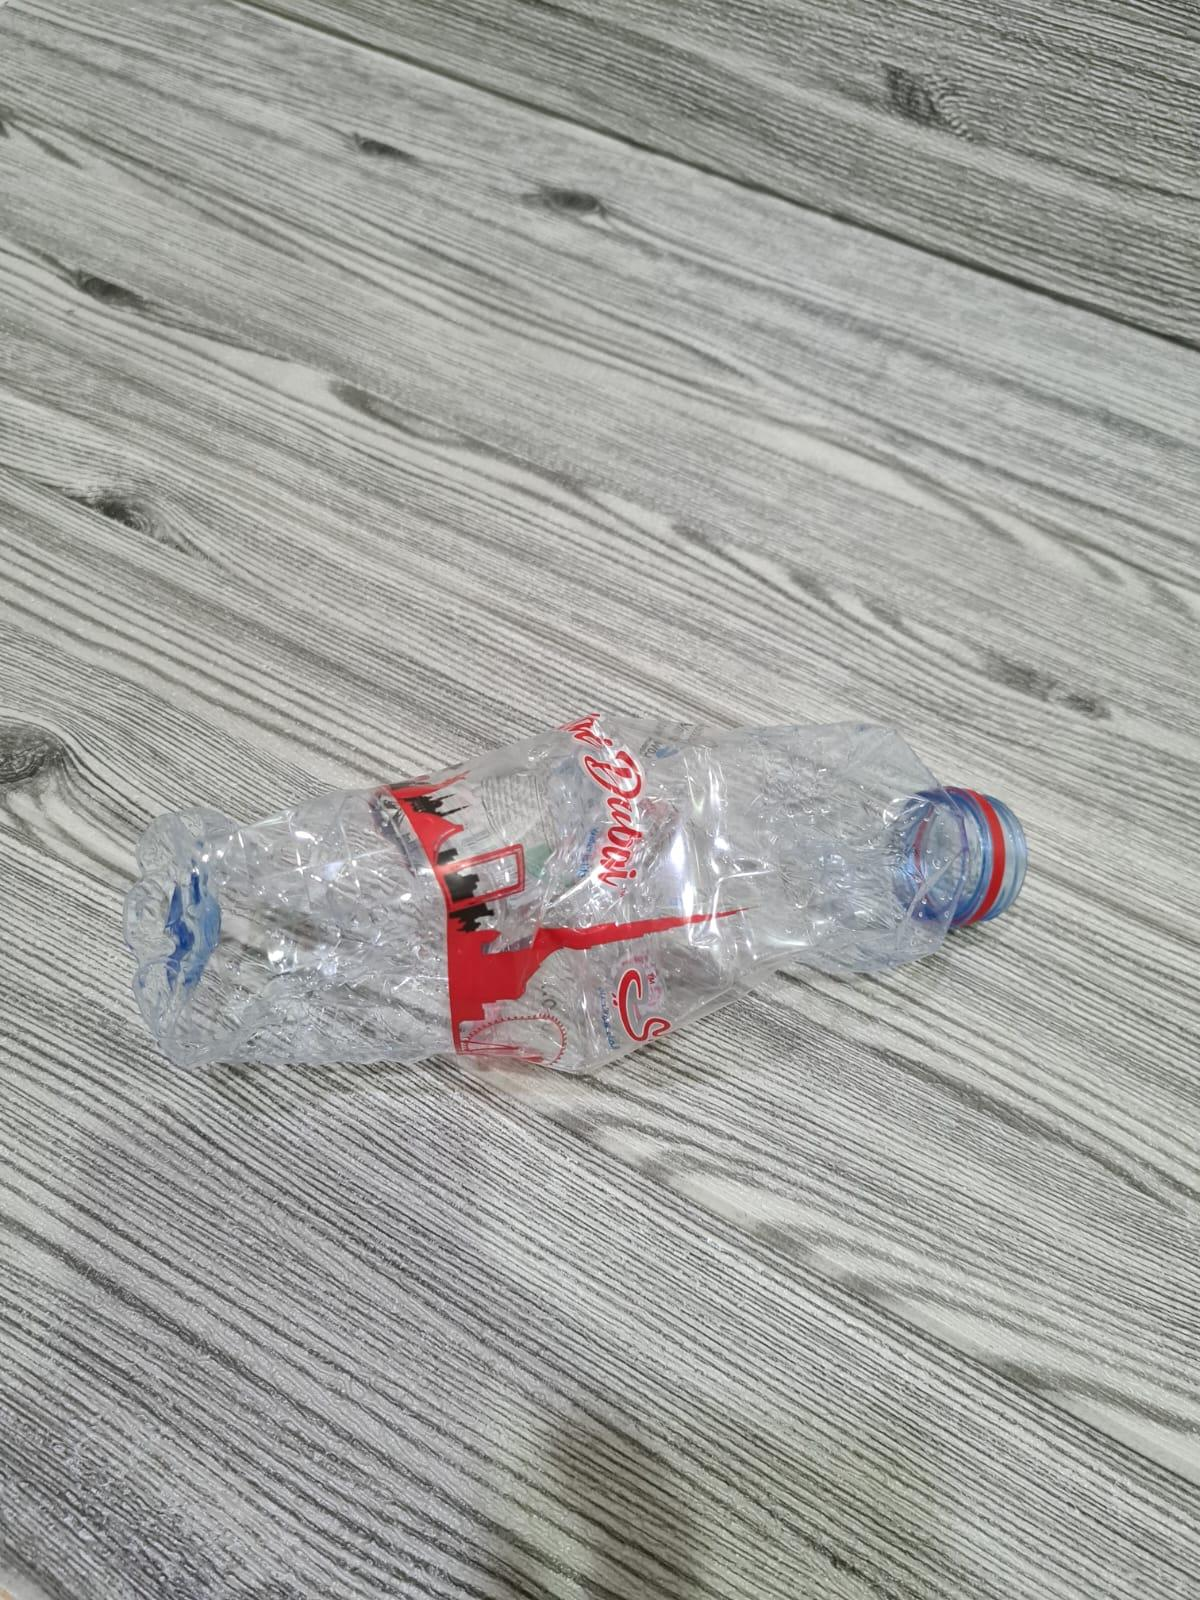bottle: (117, 717, 1029, 1083)
